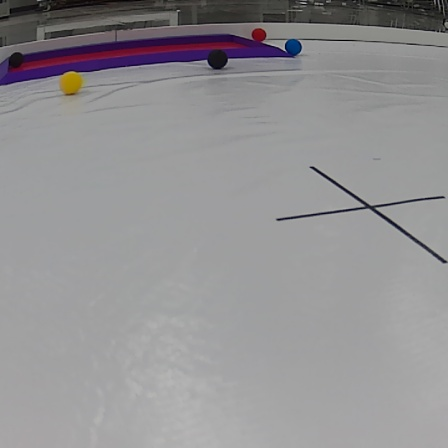black: (205, 48, 229, 69), (10, 51, 24, 66)
blue: (285, 40, 303, 56)
red: (254, 27, 266, 43)
red_aim: (0, 33, 295, 85)
yellow: (56, 73, 84, 94)
